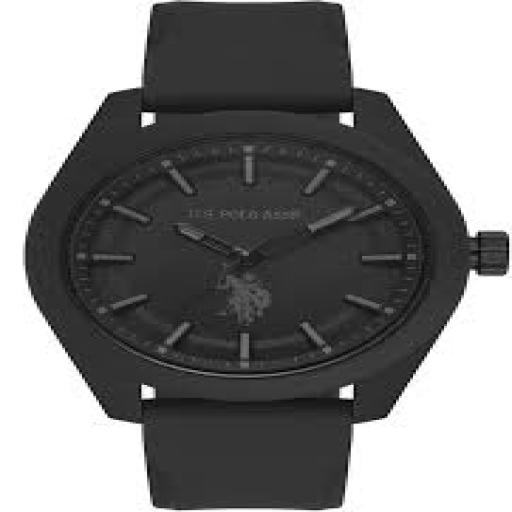KolSaati: (18, 2, 507, 512)
